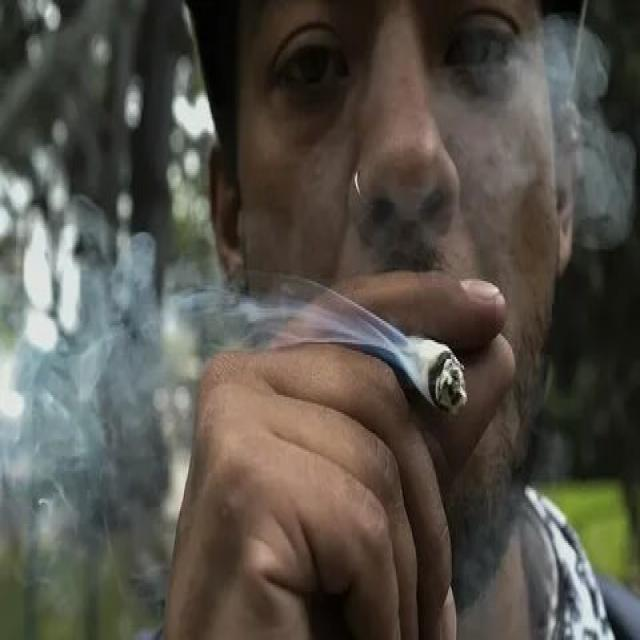smoke: (395, 317, 469, 422)
